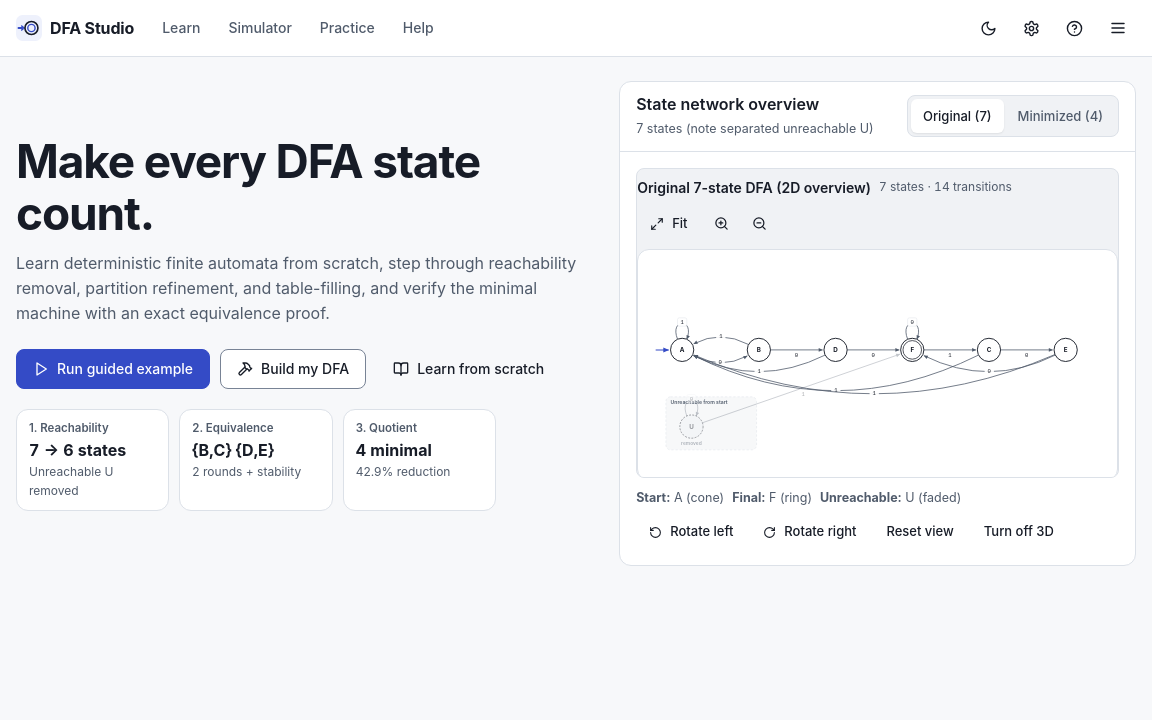
UI Integration — Landing, Simulator, Builder, Practice, Persistence › launches guided example from landing and steps through refinement to verified results
Expected: the heading "Make every DFA state count." is shown, [16, 133, 480, 240]
Step 1. Click the button "Run guided example" → (113, 369), box [16, 349, 210, 389]
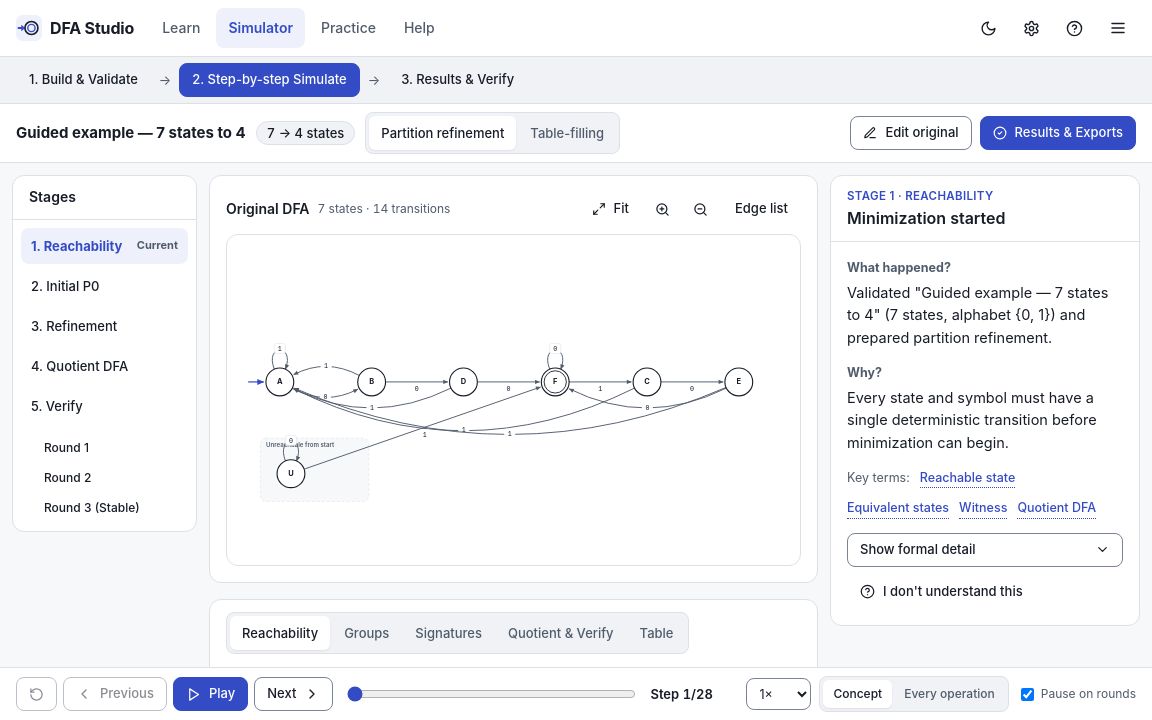
Now the element named "simulation playback controls" is shown, box [0, 667, 1151, 719]
Now the text "7 → 4 states" is shown, box [256, 121, 355, 145]
// Jump to Results & Exports
Step 2. Click the button "Results & Exports" → (1058, 133), box [980, 116, 1136, 150]
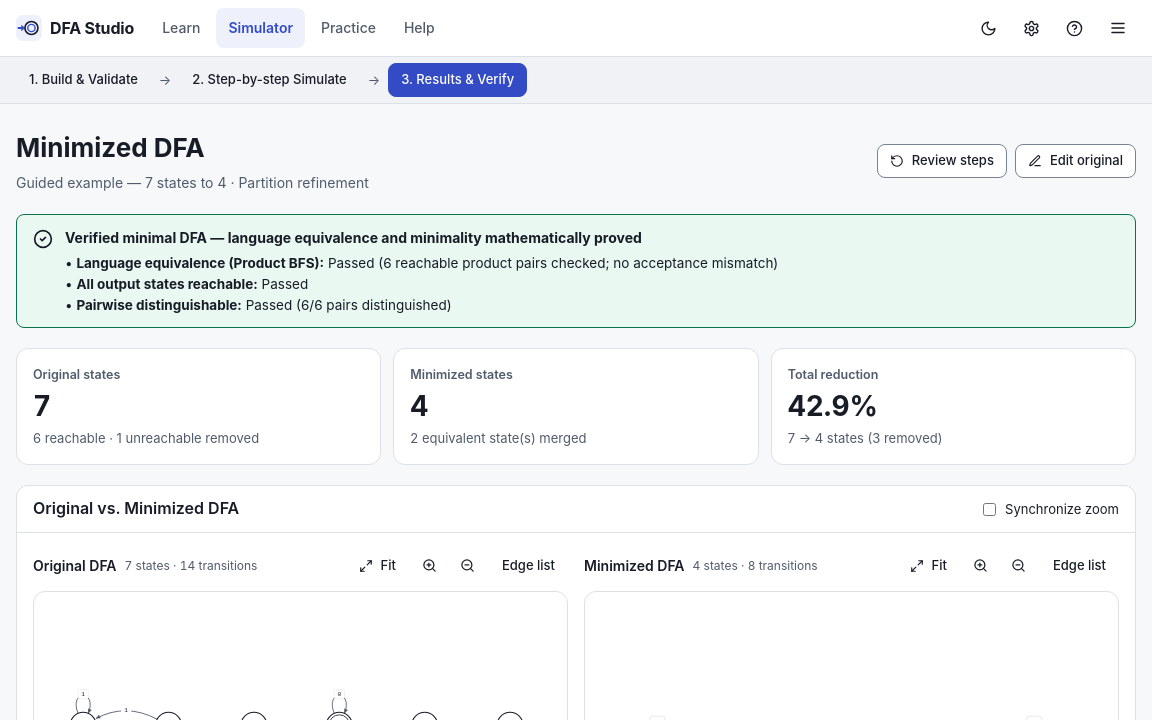
Now the heading "Minimized DFA" is shown, box [16, 132, 205, 163]
Now the text "Verified minimal DFA — language equivalence" is shown, box [65, 229, 642, 246]
